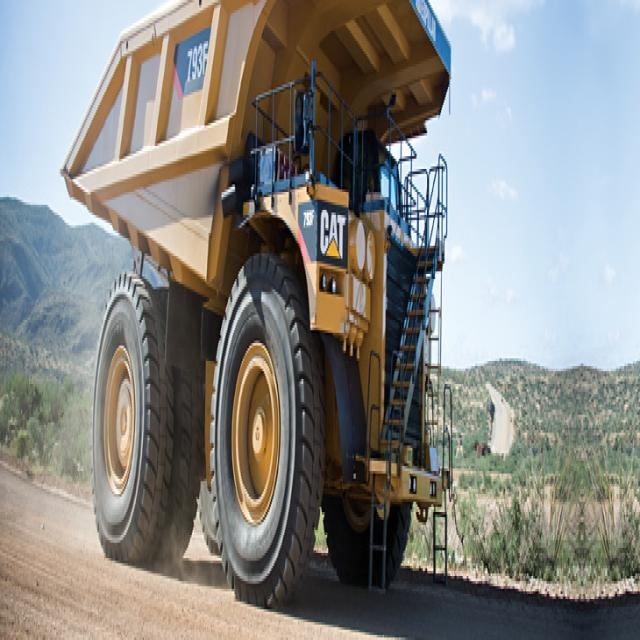dump_truck: (60, 0, 458, 637)
